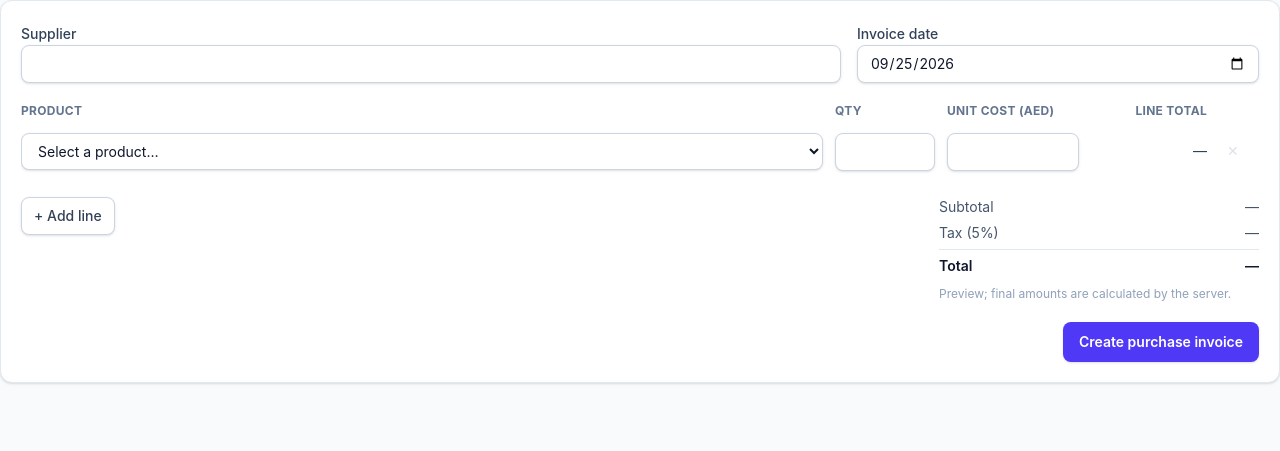
PurchaseForm › adds tax to the preview when a rate is configured (half-up, like the server)
Select "Mechanical Keyboard (KB-MECH-001)" in the dropdown named "Product for line 1". click: (422, 152)
box: [21,133,823,170]
Type "2" into the number field named "Quantity for line 1". click: (885, 152)
box: [835,133,935,171]
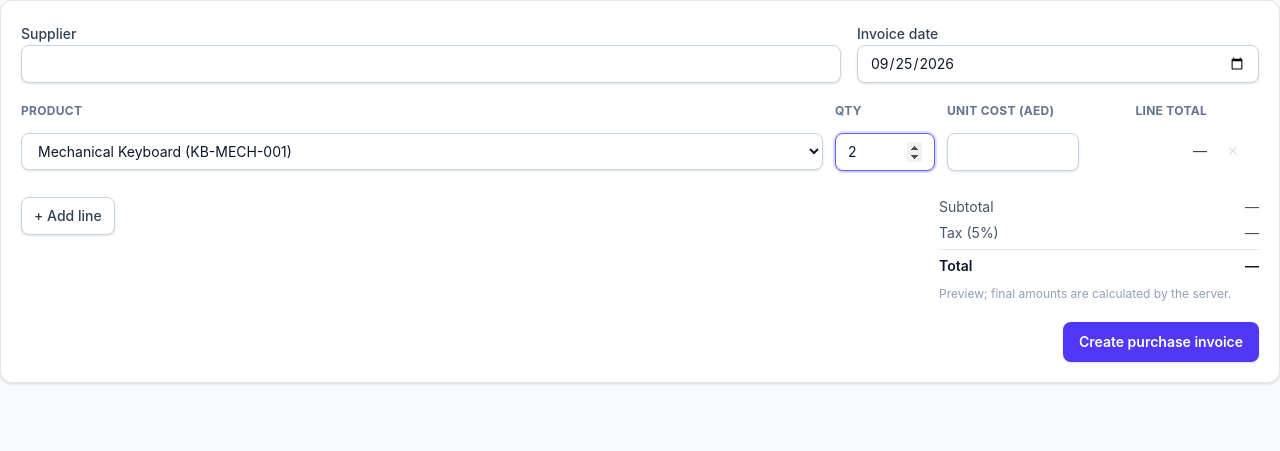
Type "10.50" into the number field named "Unit cost for line 1". click: (1013, 152)
box: [947,133,1079,171]
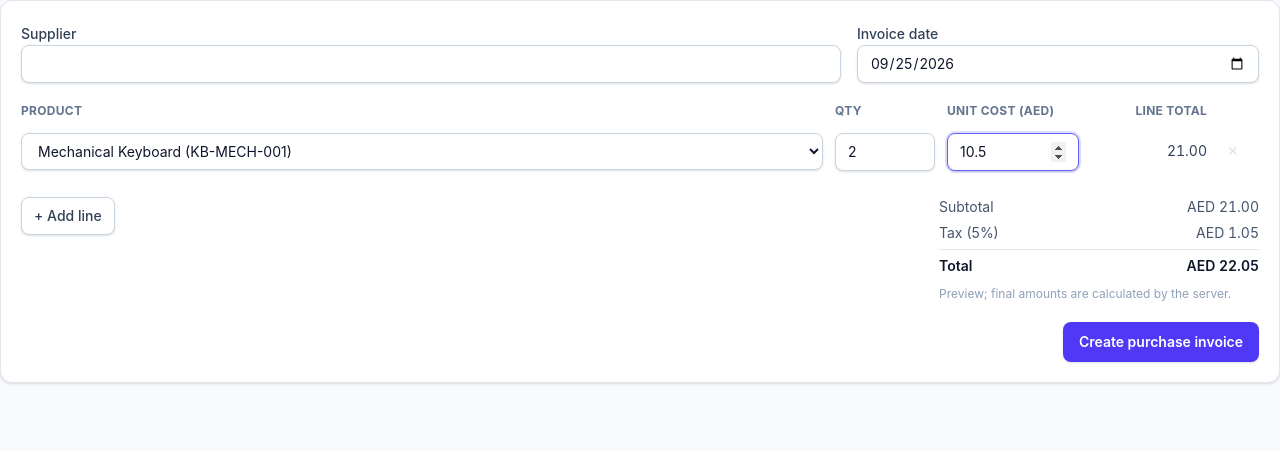
Click the button "+ Add line". click: click(68, 216)
box: [21,197,115,235]
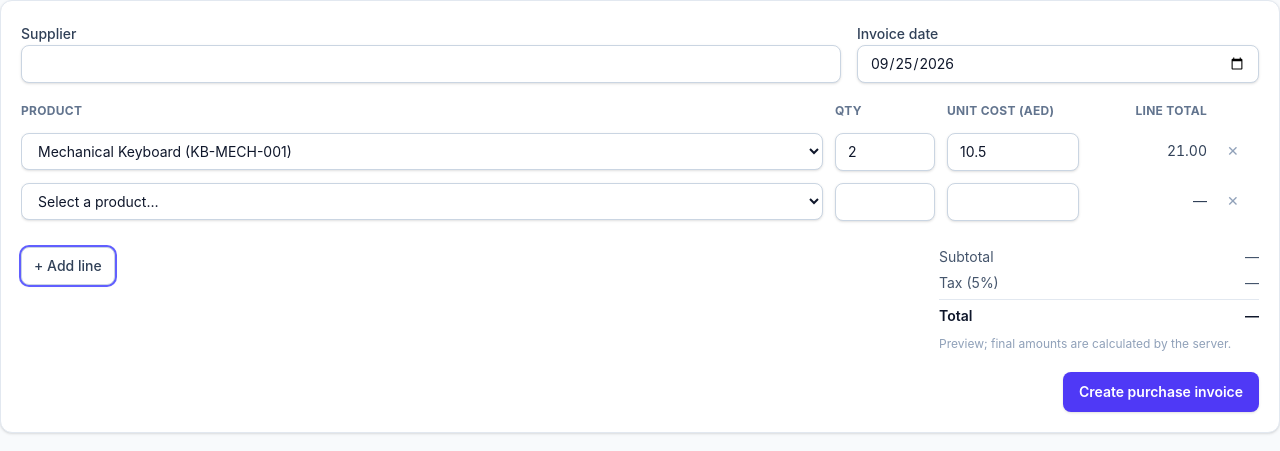
Select "27\" 4K Monitor (MN-4K-027)" in the dropdown named "Product for line 2". click: (422, 202)
box: [21,183,823,220]
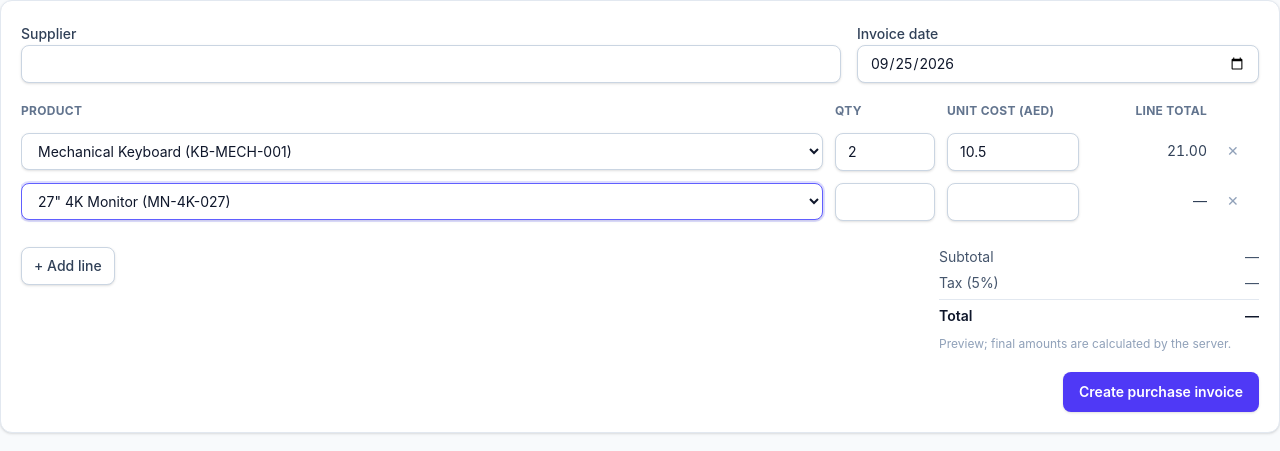
Type "1" into the number field named "Quantity for line 2". click: (885, 202)
box: [835,183,935,221]
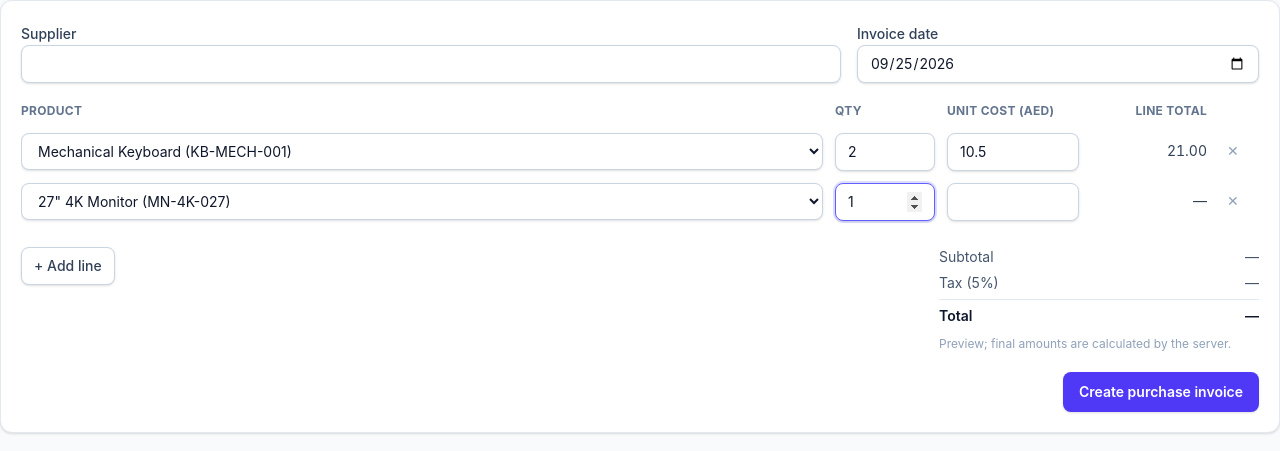
Type "4.99" into the number field named "Unit cost for line 2". click: (1013, 202)
box: [947,183,1079,221]
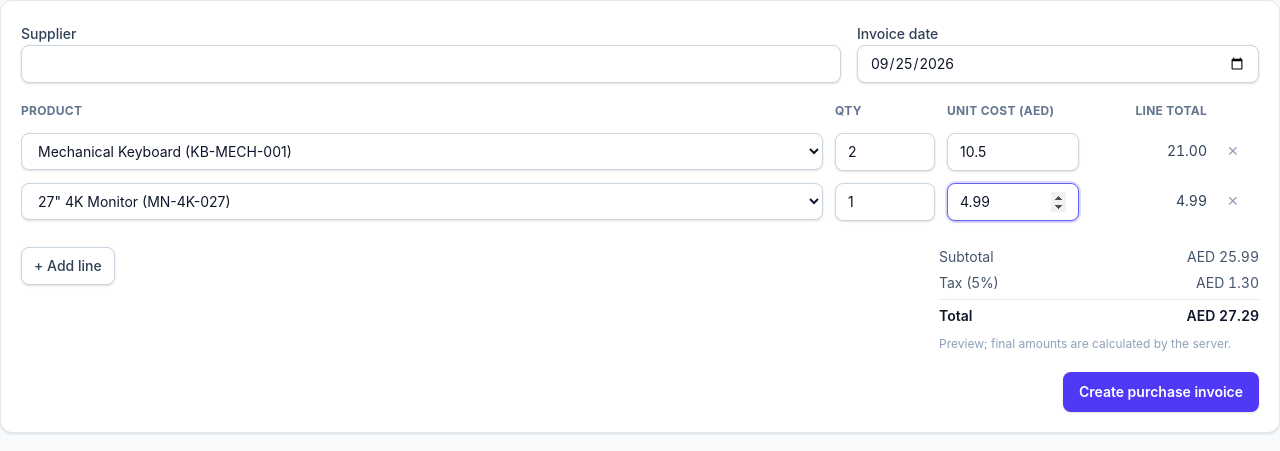
Check: the text "Tax (5%)" is shown, box [939,273,999,293]
Check: the text with test id "preview-subtotal" reads "AED 25.99", box [1187,248,1259,265]
Check: the text with test id "preview-total" reads "AED 27.29", box [1186,307,1259,324]
